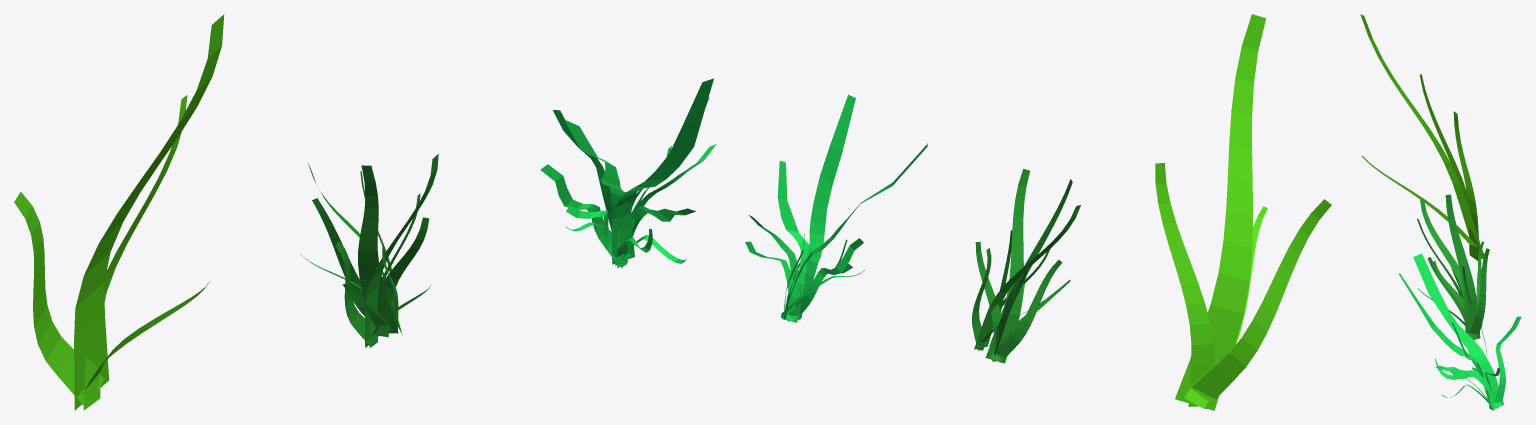
3 renders of one model, left to right at view 1: azimuth 30°, elevation 25°; view 2: azimuth 150°, elevation 25°; view 3: azimuth 270°, elevation 25°, orthographic. The views are drawn at different scales.
Parts seen in each view (by area): view 1: Hierva01, Hierva03, Hierva02; view 2: Hierva01, Hierva02, Hierva03; view 3: Hierva03, Hierva02, Hierva01.
Part boxes in pixels (box(x1,y1,x2,y2)): Hierva01: box(14, 14, 224, 410); Hierva03: box(540, 78, 716, 268); Hierva02: box(300, 154, 438, 347); Hierva01: box(1155, 14, 1331, 410); Hierva02: box(972, 169, 1080, 363); Hierva03: box(745, 94, 927, 322); Hierva03: box(1399, 253, 1521, 410); Hierva02: box(1417, 194, 1489, 340); Hierva01: box(1360, 14, 1484, 260).
Bounding box in the file's own units: 246 × 146 × 82.93.
